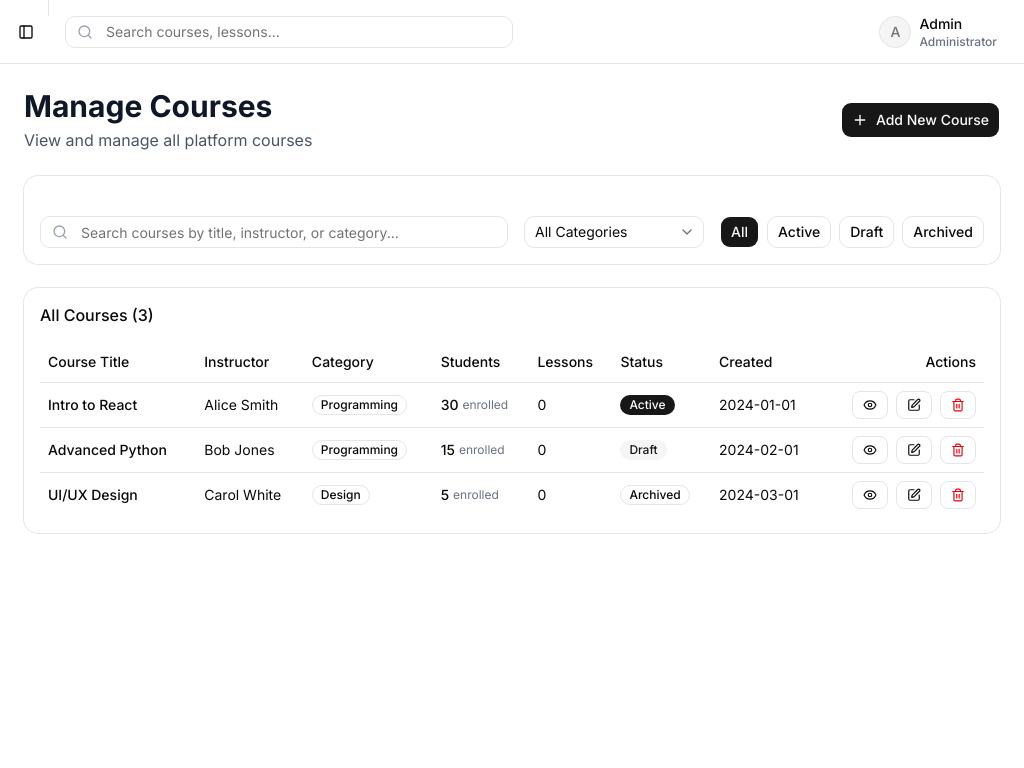
Test: Admin Courses Page - Status Filter (3.3) › filters to show only active courses (P1.3.4)
Expected: the text "Intro to React" is shown, [48,396,137,412]
Click the button "Active": point(799, 232) [767,216,831,248]
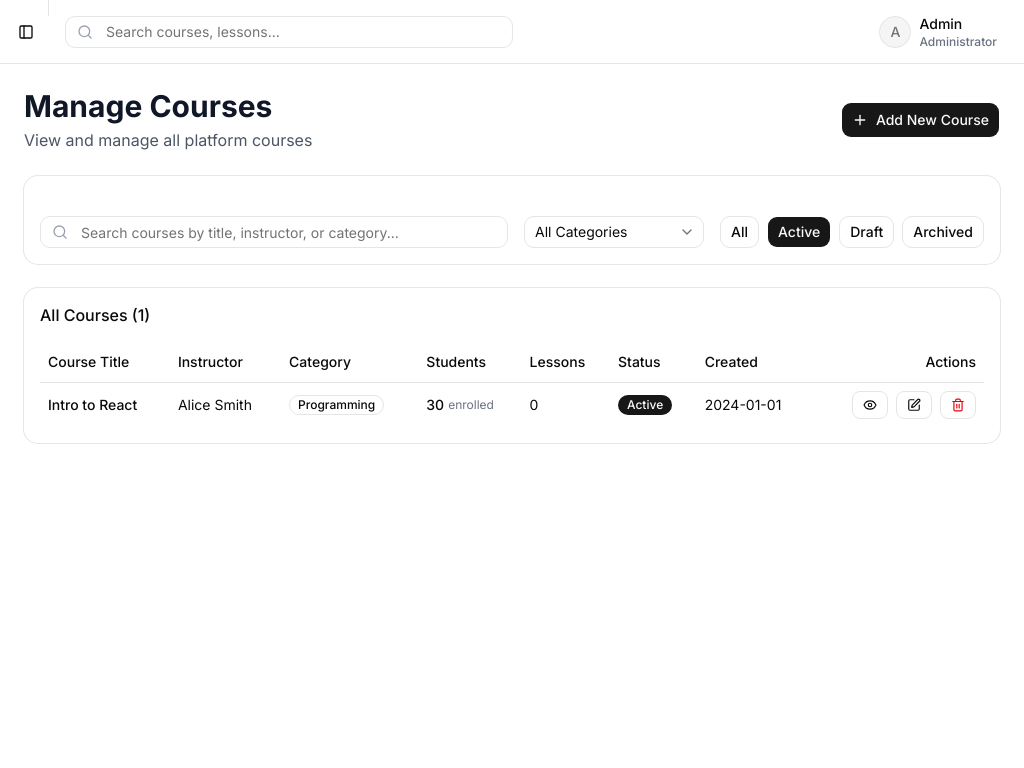
Expected: the text "Intro to React" is shown, [48,396,137,412]
Now the text "Advanced Python" is gone
Now the text "UI/UX Design" is gone
